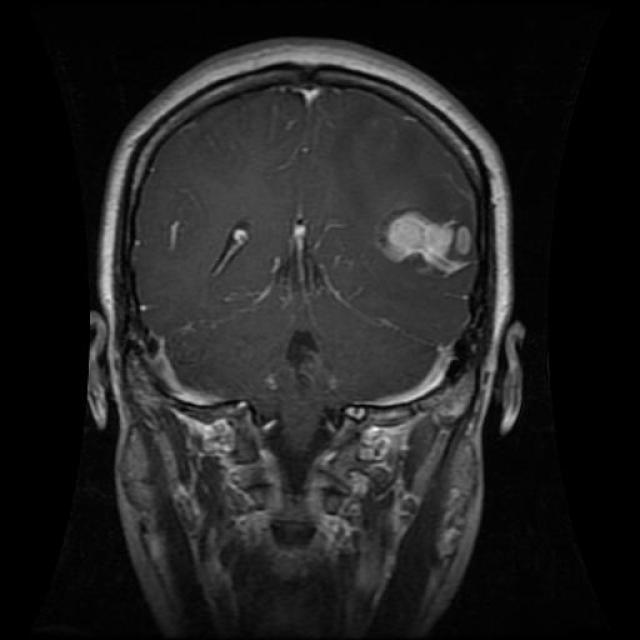glioma: (372, 208, 476, 282)
